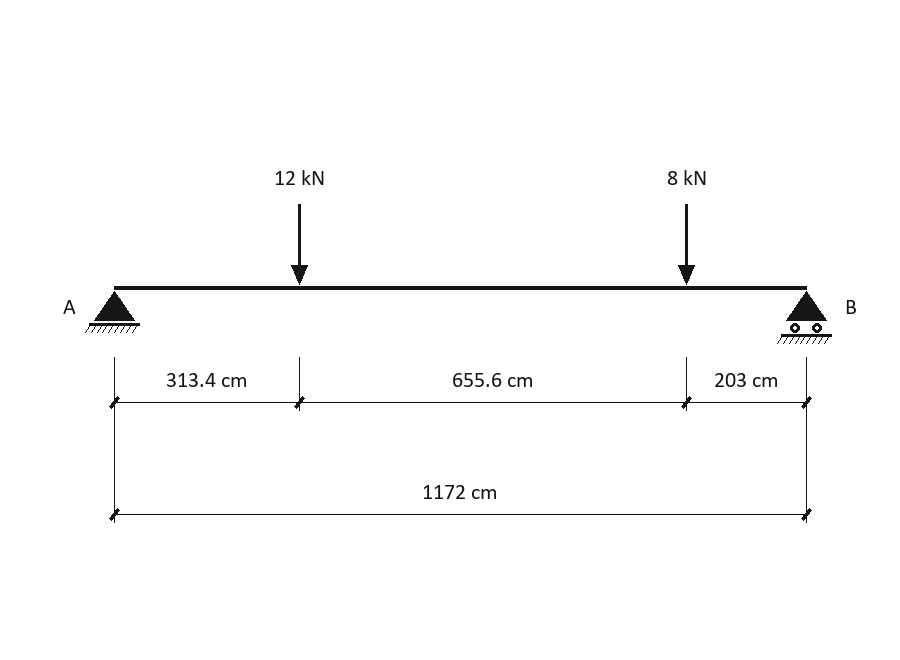pin_support: (85, 291, 140, 333)
point_load: (291, 204, 308, 285), (678, 204, 695, 285)
roller_support: (777, 291, 832, 344)
